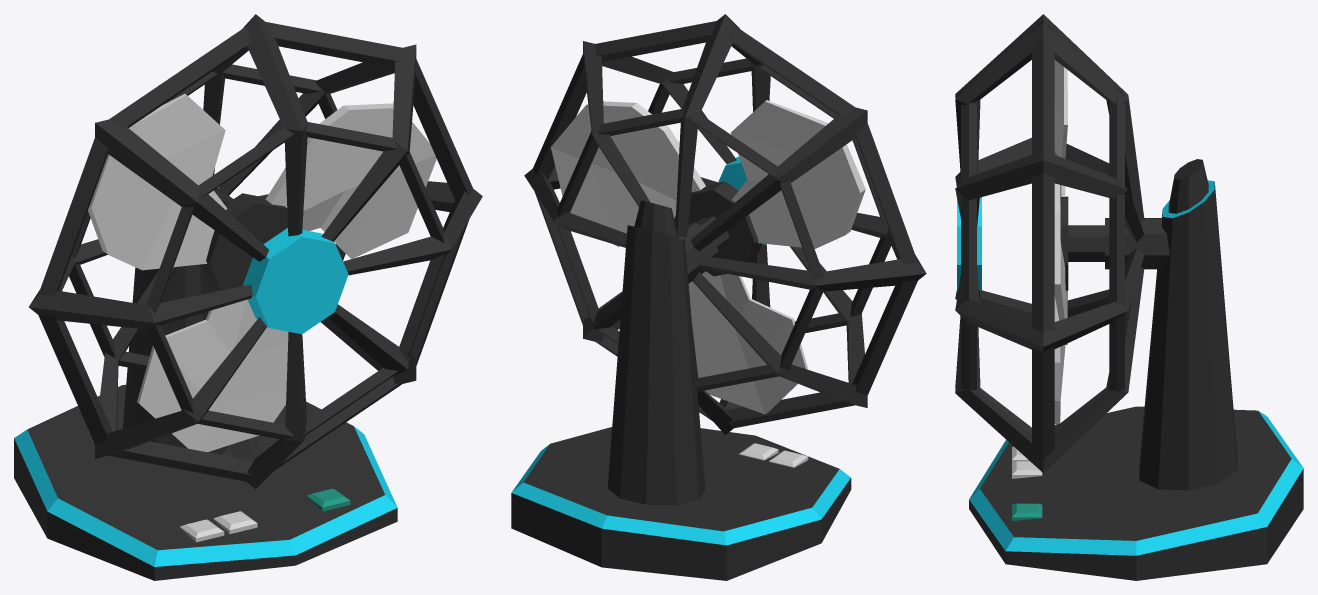
File: fan.glb
3 renders of one model, left to right at view 1: azimuth 30°, elevation 25°; view 2: azimuth 150°, elevation 25°; view 3: azimuth 270°, elevation 25°, orthographic. The views are drawn at different scales.
Visible parts, largest first — view 1: mesh_tech_fan_01; view 2: mesh_tech_fan_01; view 3: mesh_tech_fan_01.
Part boxes in pixels (x1,y1,x2,y2): mesh_tech_fan_01: (14, 14, 482, 580); mesh_tech_fan_01: (511, 14, 926, 580); mesh_tech_fan_01: (955, 14, 1303, 580).
Bounding box in the file's own units: 0.3711 × 0.4078 × 0.2646.
1 material, 1 textured.
